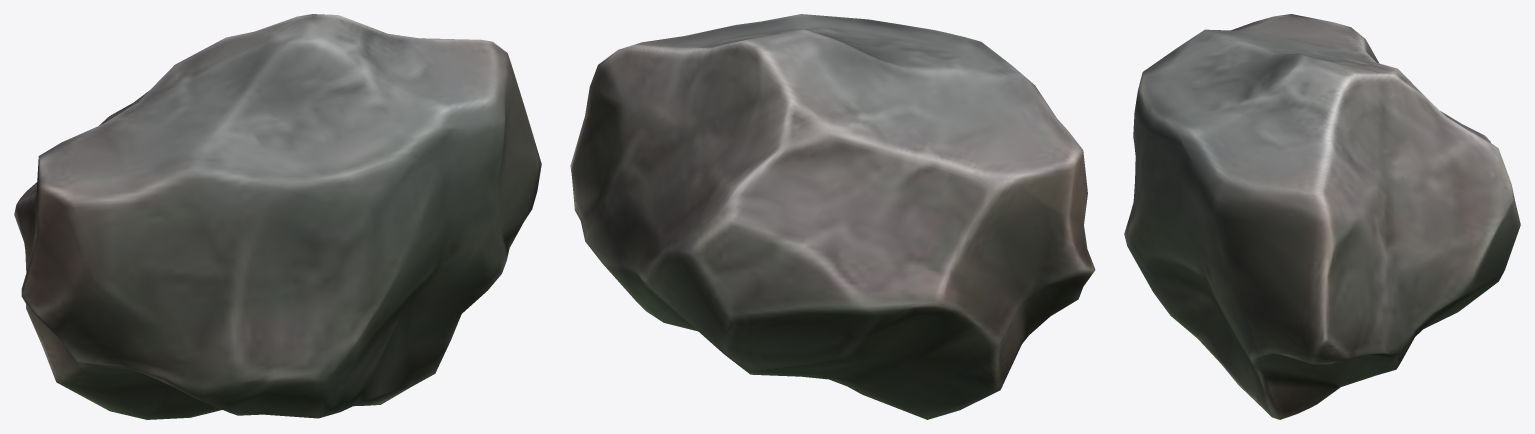
Rendered from sp-stein-3.glb.
3 views of the same model, side by side, from view 1: azimuth 30°, elevation 25°; view 2: azimuth 150°, elevation 25°; view 3: azimuth 270°, elevation 25° (orthographic). The views are drawn at different scales.
Parts seen in each view (by area): view 1: sp-stein-3; view 2: sp-stein-3; view 3: sp-stein-3.
Boxes of the visible parts, bbox=[...] form: sp-stein-3: bbox=[14, 14, 541, 419]; sp-stein-3: bbox=[570, 14, 1095, 419]; sp-stein-3: bbox=[1124, 14, 1520, 419].
Bounding box in the file's own units: 1.98 × 1.27 × 1.44.
Materials: 1 (1 with a texture image).
